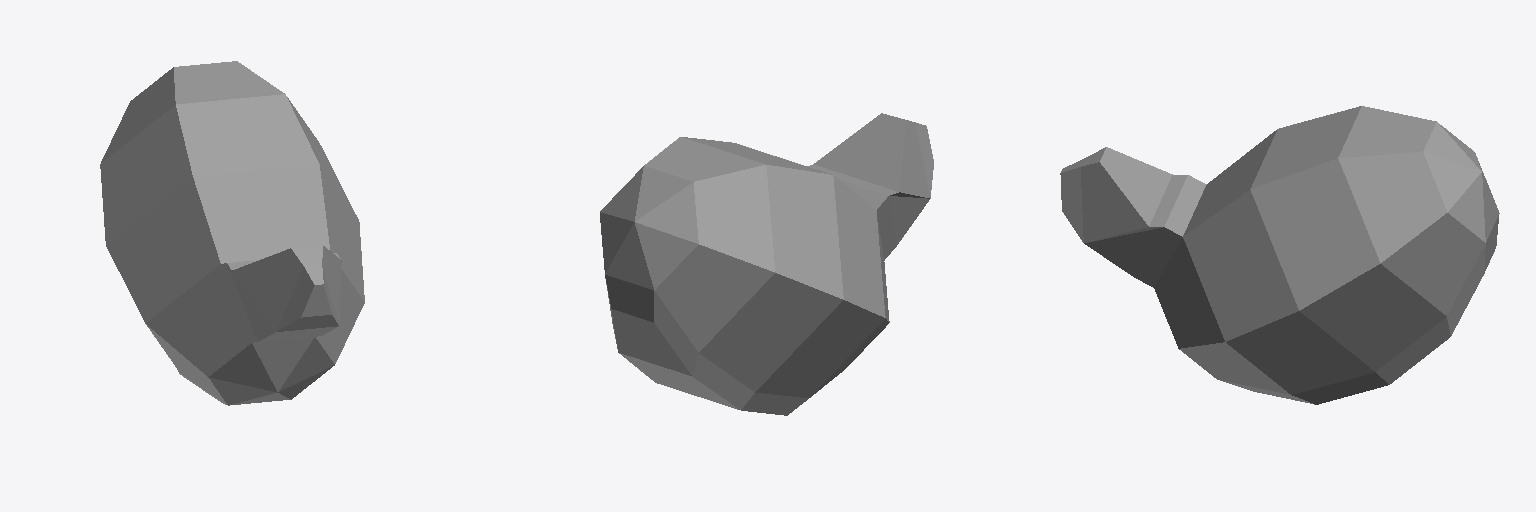
The model's file is grenade.obj.
The picture shows the model from 3 angles: view 1: azimuth 30°, elevation 25°; view 2: azimuth 150°, elevation 25°; view 3: azimuth 270°, elevation 25°; orthographic projection.
Parts seen in each view (by area): view 1: Sphere; view 2: Sphere; view 3: Sphere.
Boxes of the visible parts, <box> form: Sphere: <box>100,61,364,405</box>; Sphere: <box>600,113,933,415</box>; Sphere: <box>1060,106,1499,404</box>.
Size of the model in its own units: 0.145 by 0.1609 by 0.2415.